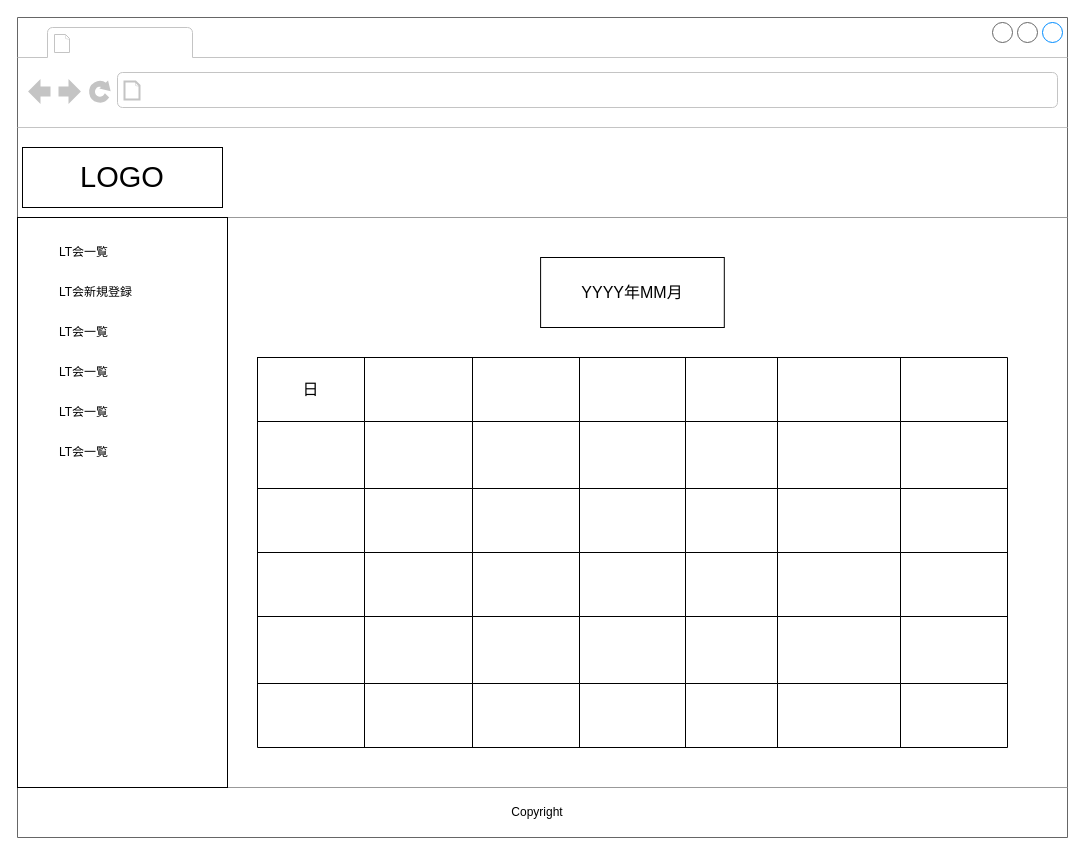
Image size: 1085x855. Some labels were removed from this diagram. The centre of each missing label's shape, as x and y in pixels:
"EVM" goes at point (132, 42).
"https://lteventmanager.com" goes at point (272, 90).
